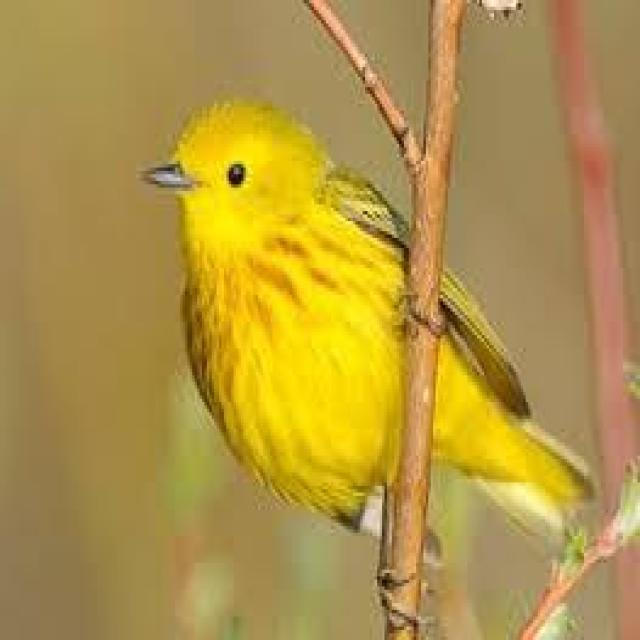other: (162, 58, 592, 550)
